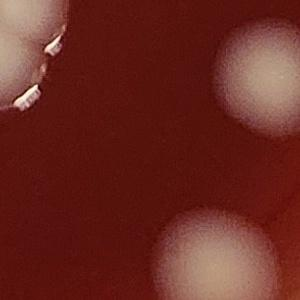colony: (142, 206, 294, 300), (207, 16, 300, 143), (0, 27, 56, 122), (0, 0, 76, 58)
